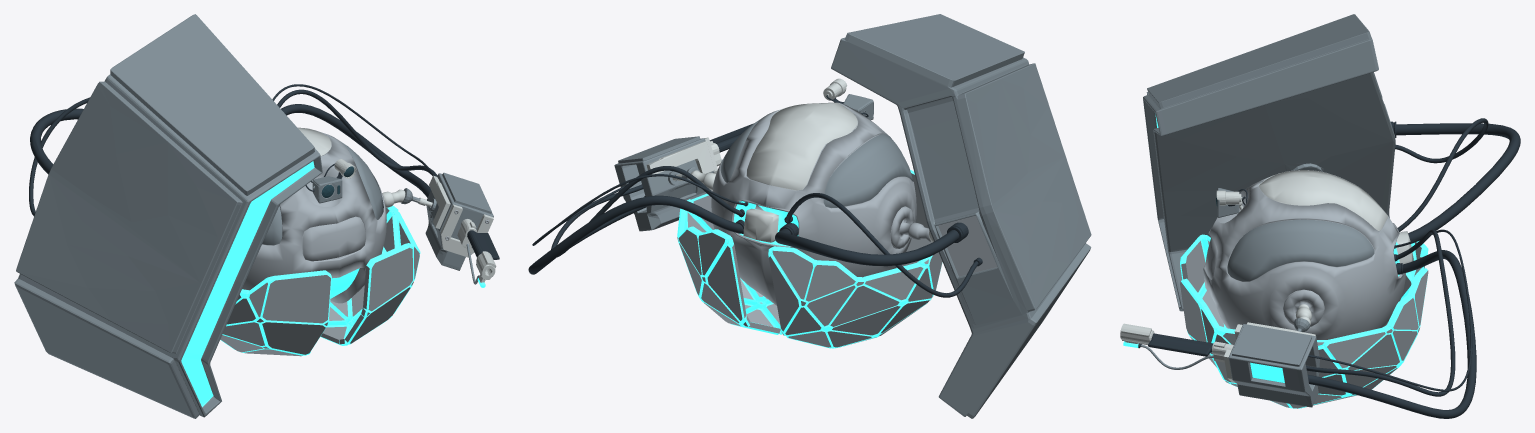
File: bs-warden.glb
3 views of the same model, side by side, from view 1: azimuth 30°, elevation 25°; view 2: azimuth 150°, elevation 25°; view 3: azimuth 270°, elevation 25° (orthographic). The views are drawn at different scales.
Visible parts, largest first — view 1: bs_burt_drone; view 2: bs_burt_drone; view 3: bs_burt_drone.
Part boxes in pixels (box(x1,y1,x2,y2)): bs_burt_drone: box(14, 14, 499, 418); bs_burt_drone: box(528, 14, 1091, 418); bs_burt_drone: box(1120, 14, 1520, 418).
Bounding box in the file's own units: 2.4 × 1.68 × 1.88.
